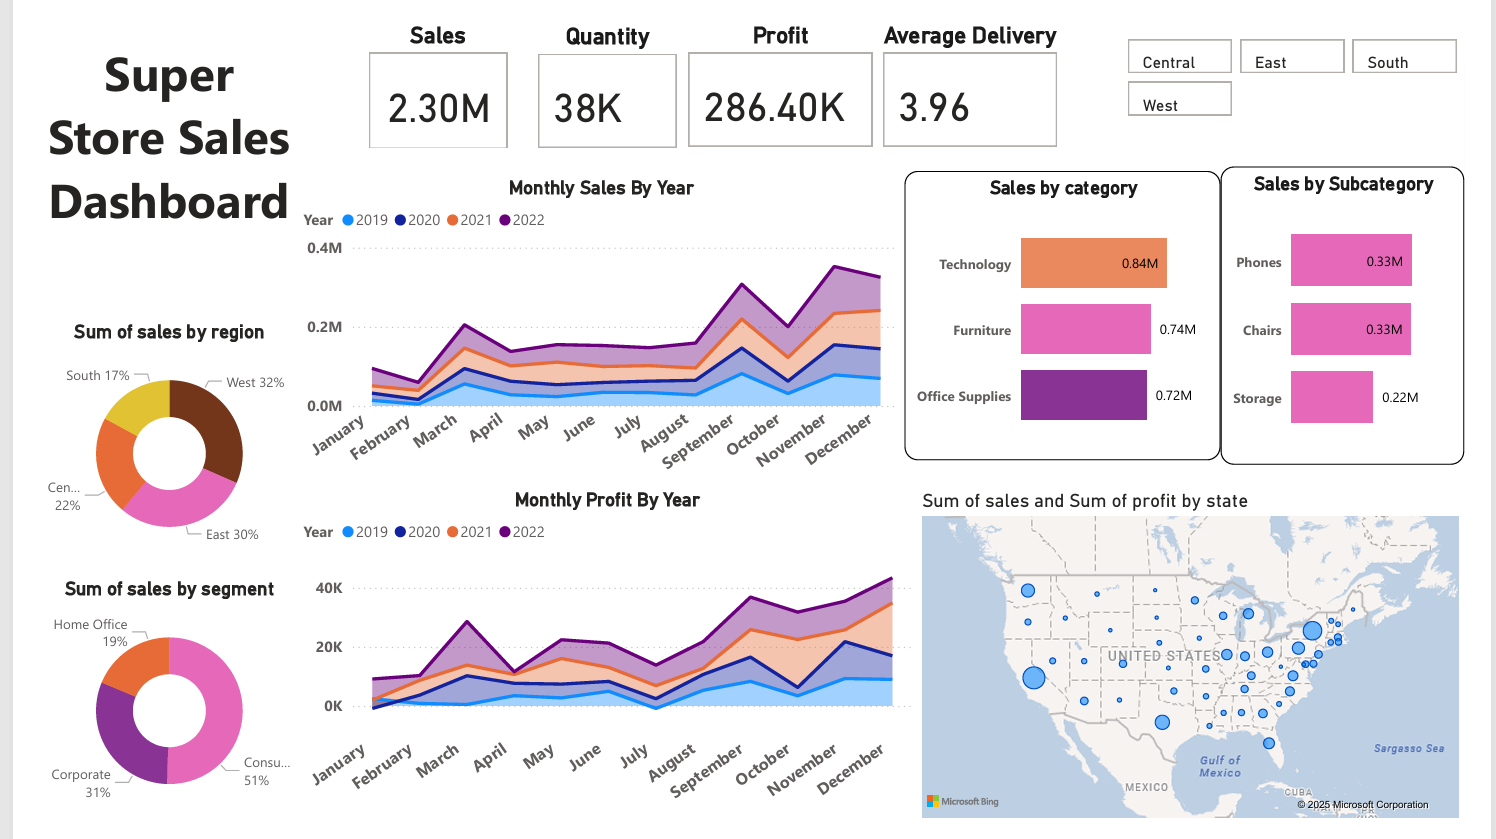

The dashboard page shown, as its layout file describes it:
{"tool":"powerbi","page":{"name":"Page 1","canvas":[1280,720],"ordinal":0},"visuals":[{"type":"clusteredBarChart","title":"Sales by category","fields":{"Category":["superstore sales dataset.category"],"Y":["Sum(superstore sales dataset.sales)"]},"box":[776.7,134.5,284,259.3],"z":0},{"type":"clusteredBarChart","title":"Sales by Subcategory","fields":{"Category":["superstore sales dataset.subcategory","superstore sales dataset.category"],"Y":["Sum(superstore sales dataset.sales)"]},"box":[1060.7,130.4,219.6,267.6],"z":1000},{"type":"stackedAreaChart","title":"Monthly Sales By Year","fields":{"Y":["Sum(superstore sales dataset.sales)"],"Category":["superstore sales dataset.order_date.Variation.Date Hierarchy.Month"],"Series":["superstore sales dataset.order_date.Variation.Date Hierarchy.Year"]},"box":[231.9,138.6,544.8,281.3],"z":2000},{"type":"stackedAreaChart","title":"Monthly Profit By Year","fields":{"Category":["superstore sales dataset.order_date.Variation.Date Hierarchy.Month"],"Series":["superstore sales dataset.order_date.Variation.Date Hierarchy.Year"],"Y":["Sum(superstore sales dataset.profit)"]},"box":[231.9,418.5,555.7,301.9],"z":3000},{"type":"map","fields":{"Category":["superstore sales dataset.state"],"Size":["Sum(superstore sales dataset.sales)"]},"box":[787.7,419.9,492.6,300.5],"z":4000},{"type":"donutChart","fields":{"Category":["superstore sales dataset.segment"],"Y":["Sum(superstore sales dataset.sales)"]},"box":[0,499.5,233.3,220.9],"z":5000},{"type":"donutChart","fields":{"Category":["superstore sales dataset.region"],"Y":["Sum(superstore sales dataset.sales)"]},"box":[0,267.6,233.3,220.9],"z":6000},{"type":"advancedSlicerVisual","fields":{"Values":["superstore sales dataset.region"]},"box":[972.9,11,307.4,78.2],"z":7000},{"type":"textbox","box":[0,11,231.9,244.3],"z":8000},{"type":"cardVisual","title":"Sales","fields":{"Data":["Sum(superstore sales dataset.sales)"]},"box":[290.9,0,134.5,119.4],"z":9000},{"type":"cardVisual","title":"Quantity","fields":{"Data":["Sum(superstore sales dataset.quantity)"]},"box":[443.2,1.4,134.5,118],"z":10000},{"type":"cardVisual","title":"Profit","fields":{"Data":["Sum(superstore sales dataset.profit)"]},"box":[577.7,0,175.6,118],"z":11000},{"type":"cardVisual","title":"Average Delivery","fields":{"Data":["Avg(superstore sales dataset.AvgDelivery)"]},"box":[753.3,0,166,118],"z":14000}]}

Visuals, with their boxes in screenshot pixels (x1, y1, x2, y2), scaled from the page's 1280x720 canvas onto the 1496x839 screenshot:
"Sales by category" clusteredBarChart: 908, 157, 1240, 459
"Sales by Subcategory" clusteredBarChart: 1240, 152, 1495, 464
"Monthly Sales By Year" stackedAreaChart: 271, 162, 908, 489
"Monthly Profit By Year" stackedAreaChart: 271, 488, 921, 838
map - superstore sales dataset.state x Sum(superstore sales dataset.sales): 921, 489, 1495, 838
donutChart - superstore sales dataset.segment x Sum(superstore sales dataset.sales): 0, 582, 273, 838
donutChart - superstore sales dataset.region x Sum(superstore sales dataset.sales): 0, 312, 273, 569
advancedSlicerVisual - superstore sales dataset.region: 1137, 13, 1495, 104
textbox: 0, 13, 271, 297
"Sales" cardVisual: 340, 0, 497, 139
"Quantity" cardVisual: 518, 2, 675, 139
"Profit" cardVisual: 675, 0, 880, 138
"Average Delivery" cardVisual: 880, 0, 1074, 138
